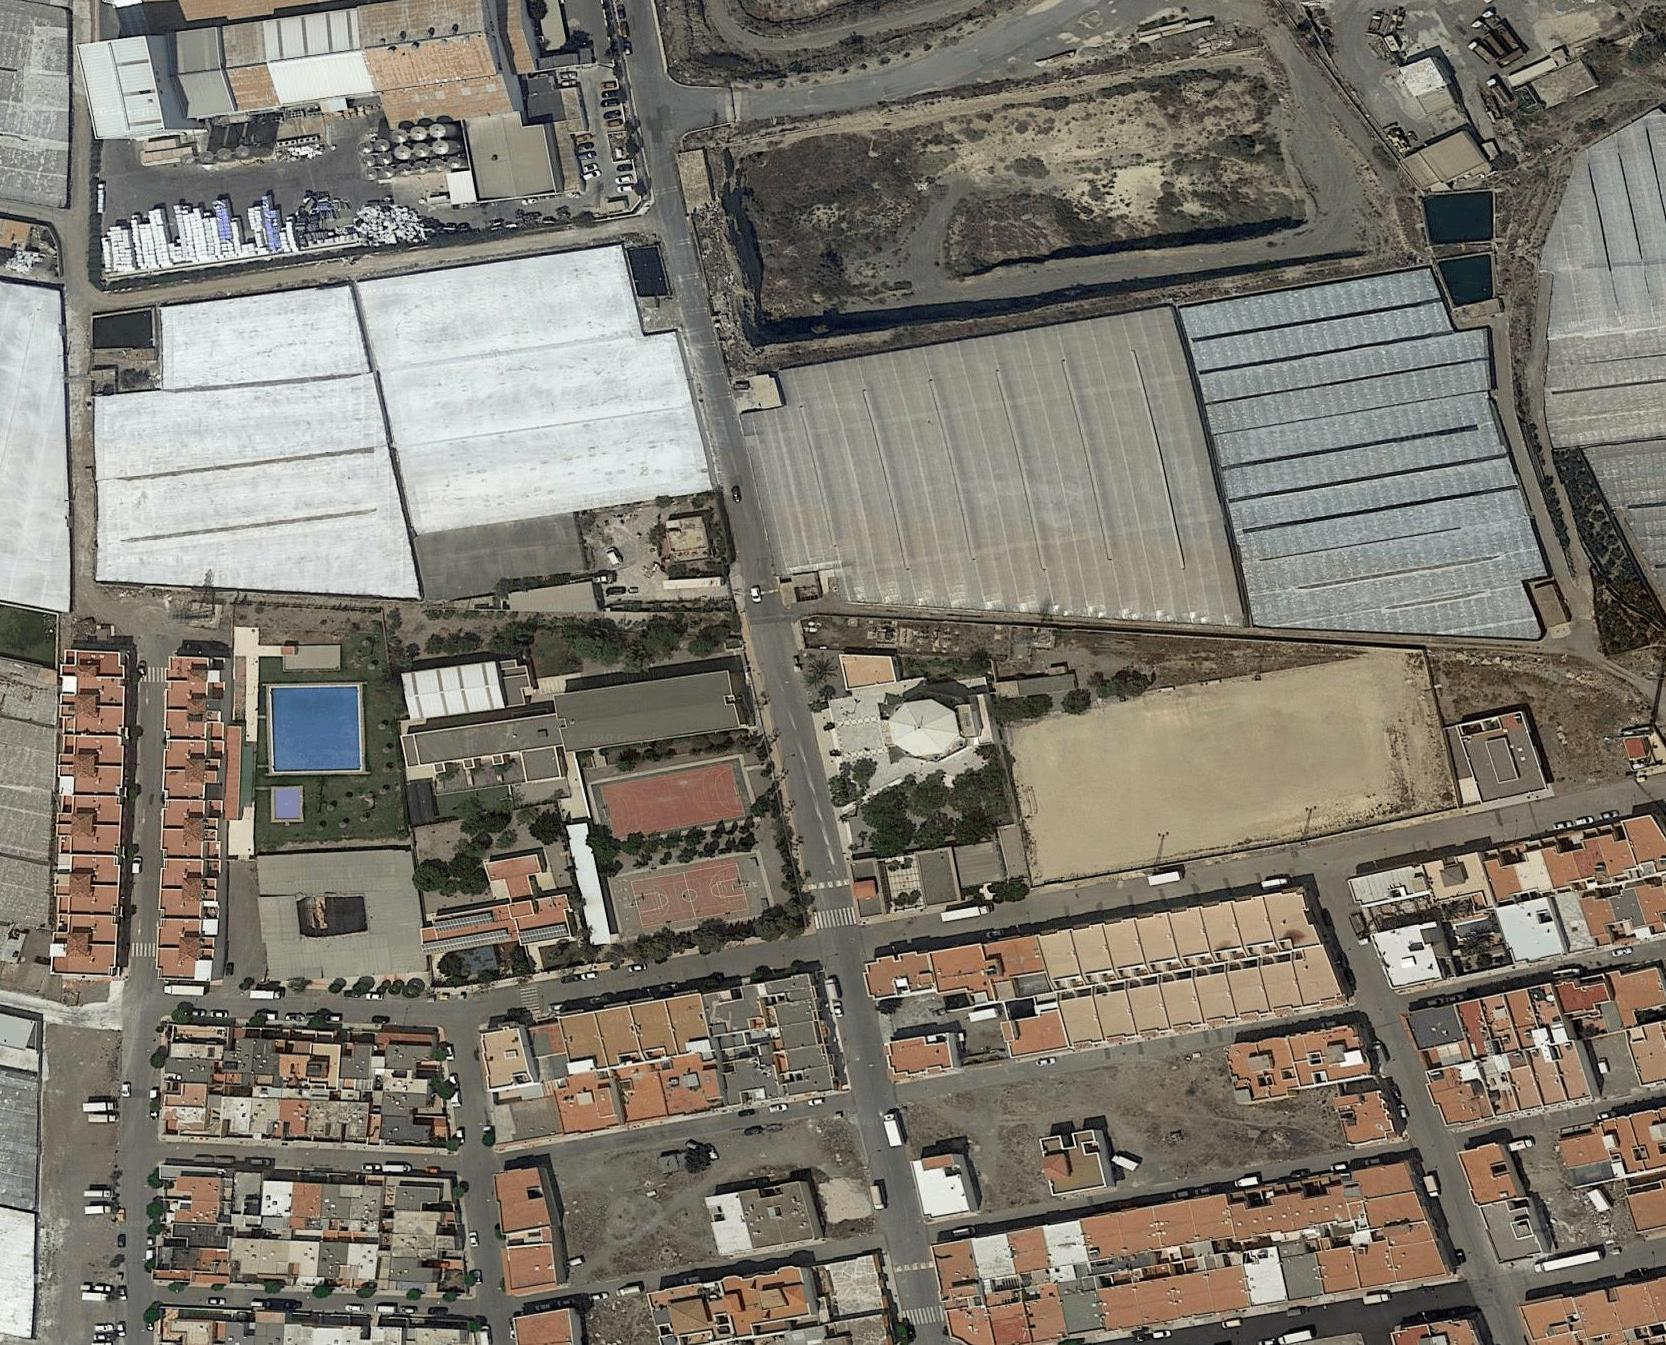substation: (858, 618, 967, 655)
